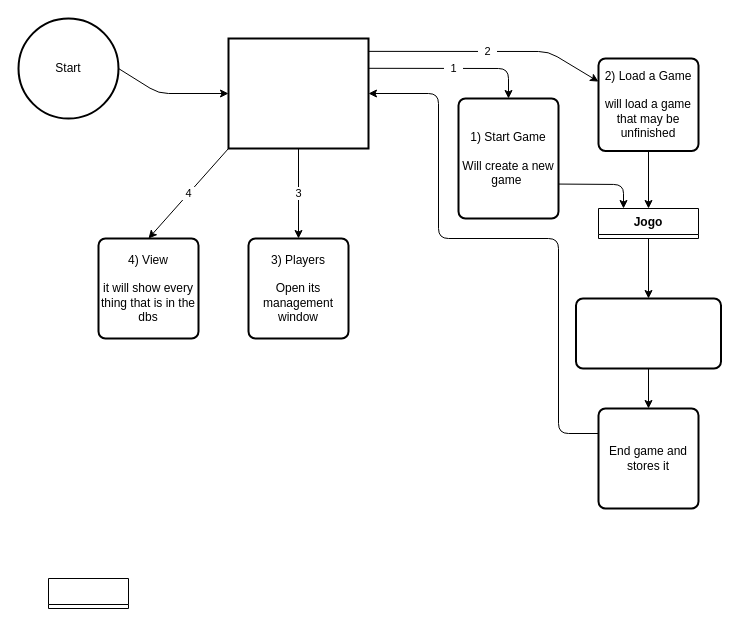
This 739x626 diagram has some shape labels left out. The shapes that lost their labels are listed below. From the top down, each one's centre as x and y in pixels, then its label:
the point at 298,93: Actions 1) Start Game 2) Load Game 3) Players 4) View
the point at 648,333: Manage the Game
the point at 88,593: Jogador
